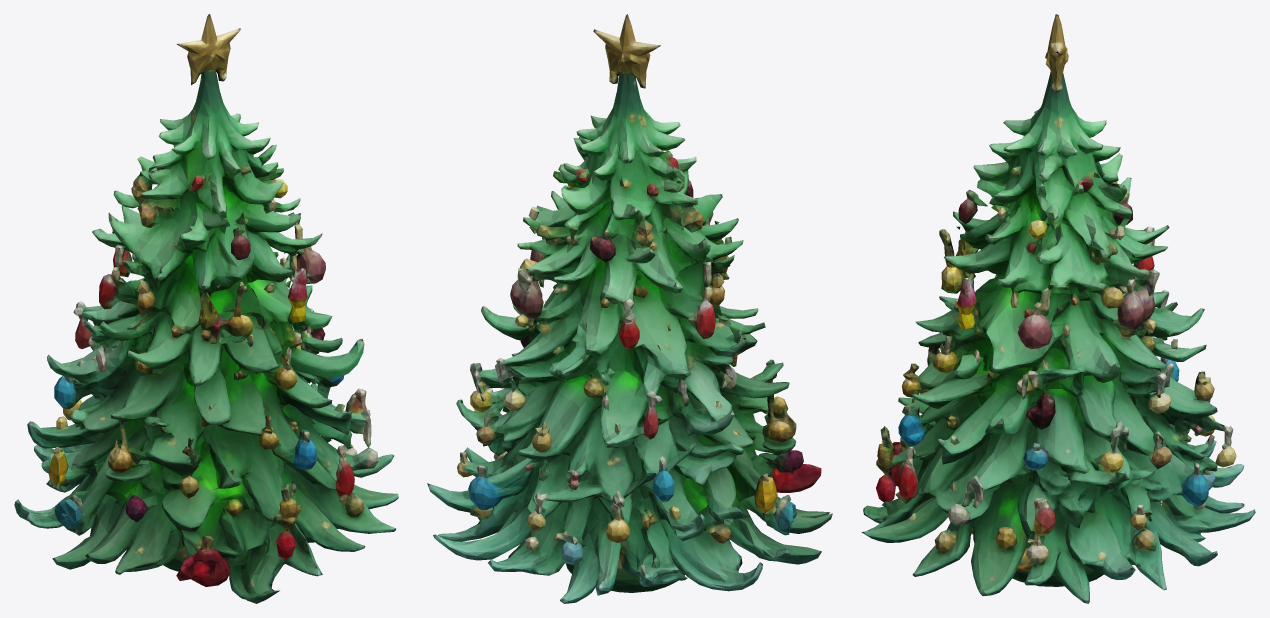
The picture shows the model from 3 angles, left to right: view 1: azimuth 30°, elevation 25°; view 2: azimuth 150°, elevation 25°; view 3: azimuth 270°, elevation 25°; orthographic projection. The views are drawn at different scales.
Visible parts, largest first — view 1: world; view 2: world; view 3: world.
Part boxes in pixels (x1=…): world: x1=14, y1=14, x2=398, y2=603; world: x1=427, y1=14, x2=832, y2=603; world: x1=861, y1=14, x2=1255, y2=603.
Bounding box in the file's own units: 0.6661 × 1 × 0.6494.
1 material, 1 textured.
